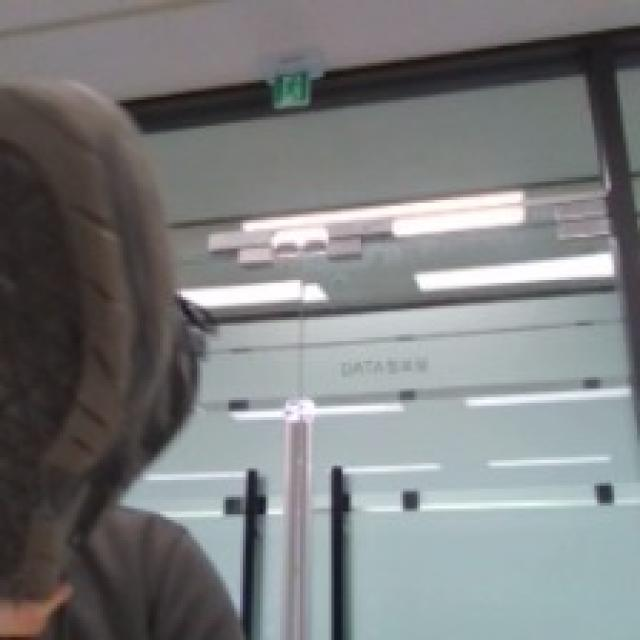shoe: (11, 40, 245, 640)
